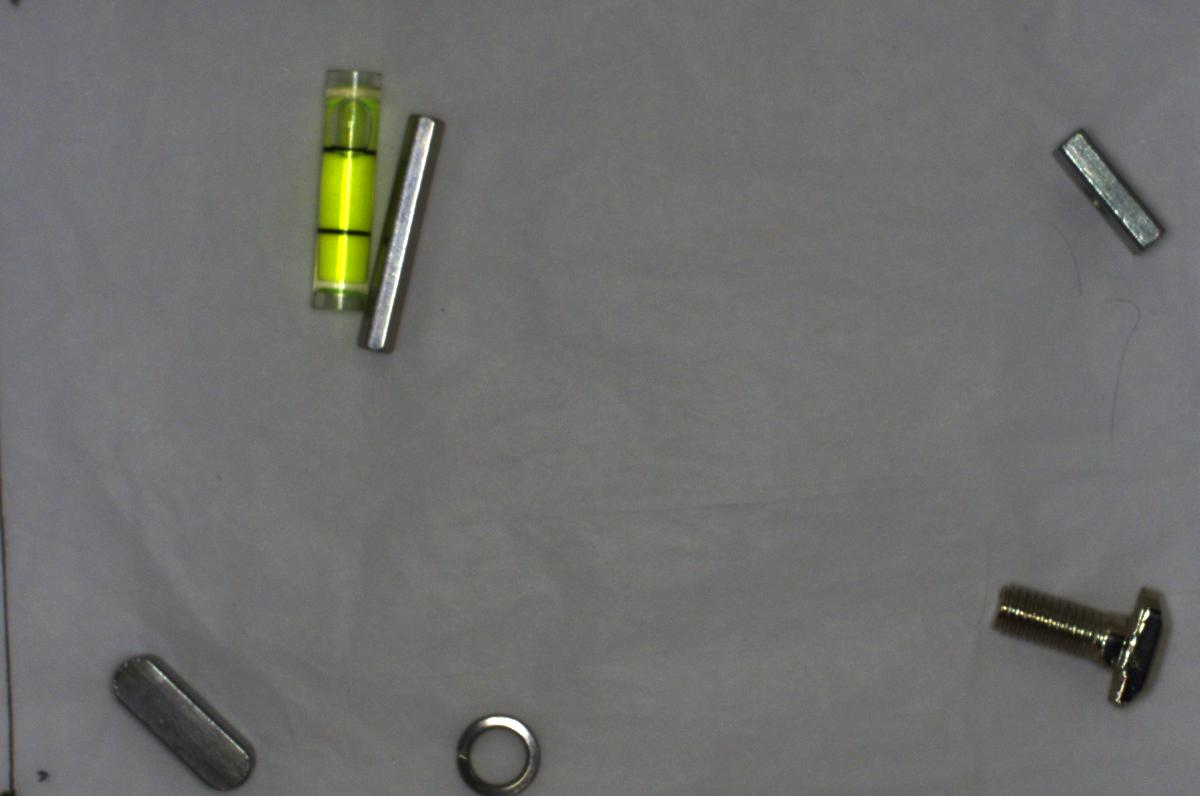Double hexagonal column: (357, 105, 445, 355)
Horizontal bubble: (302, 54, 380, 319)
Keybar: (104, 642, 259, 794)
Rectangular nut: (1050, 122, 1167, 259)
Spring washer: (440, 706, 543, 795)
T-shaped screw: (979, 560, 1173, 723)
